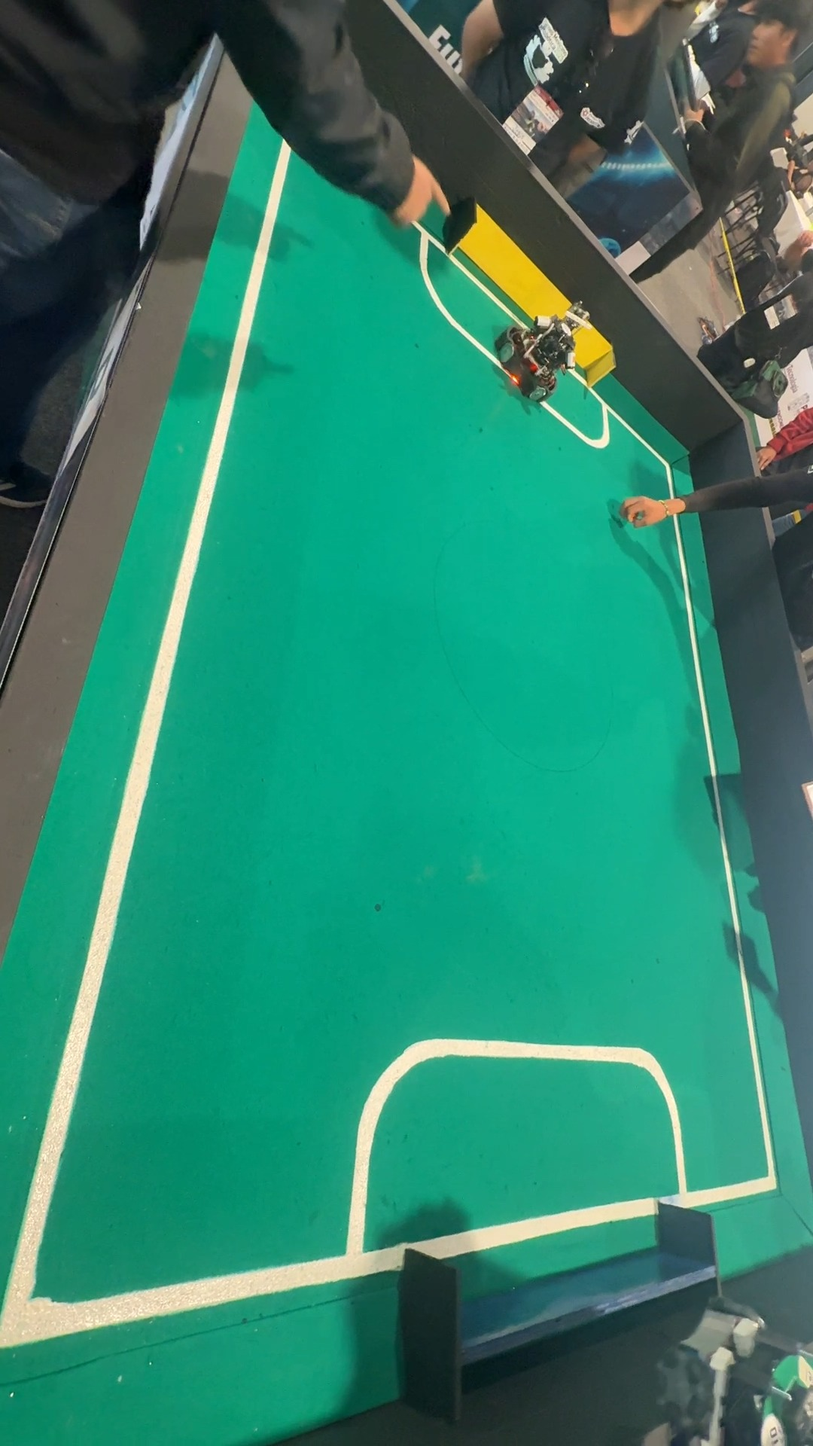Robot: (492, 298, 582, 416)
